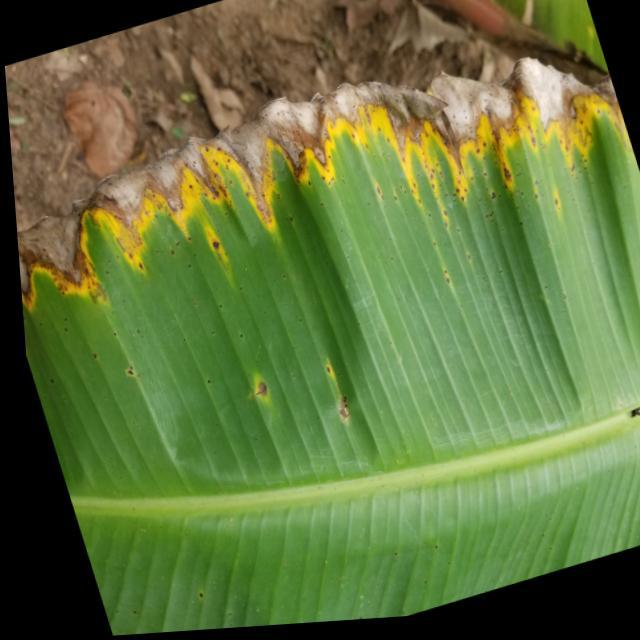Early_rust: (10, 70, 630, 314), (240, 343, 366, 450)
